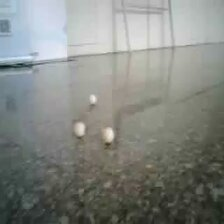w: (101, 127, 114, 144), (73, 121, 86, 137), (88, 94, 97, 104)
